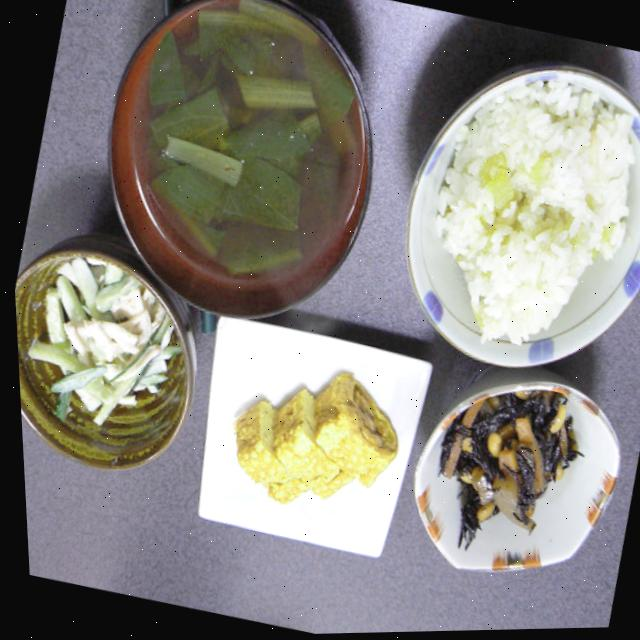米饭主食: (367, 39, 640, 398)
蔬菜料理: (9, 223, 219, 490)
鸡蛋料理: (186, 346, 410, 579)
